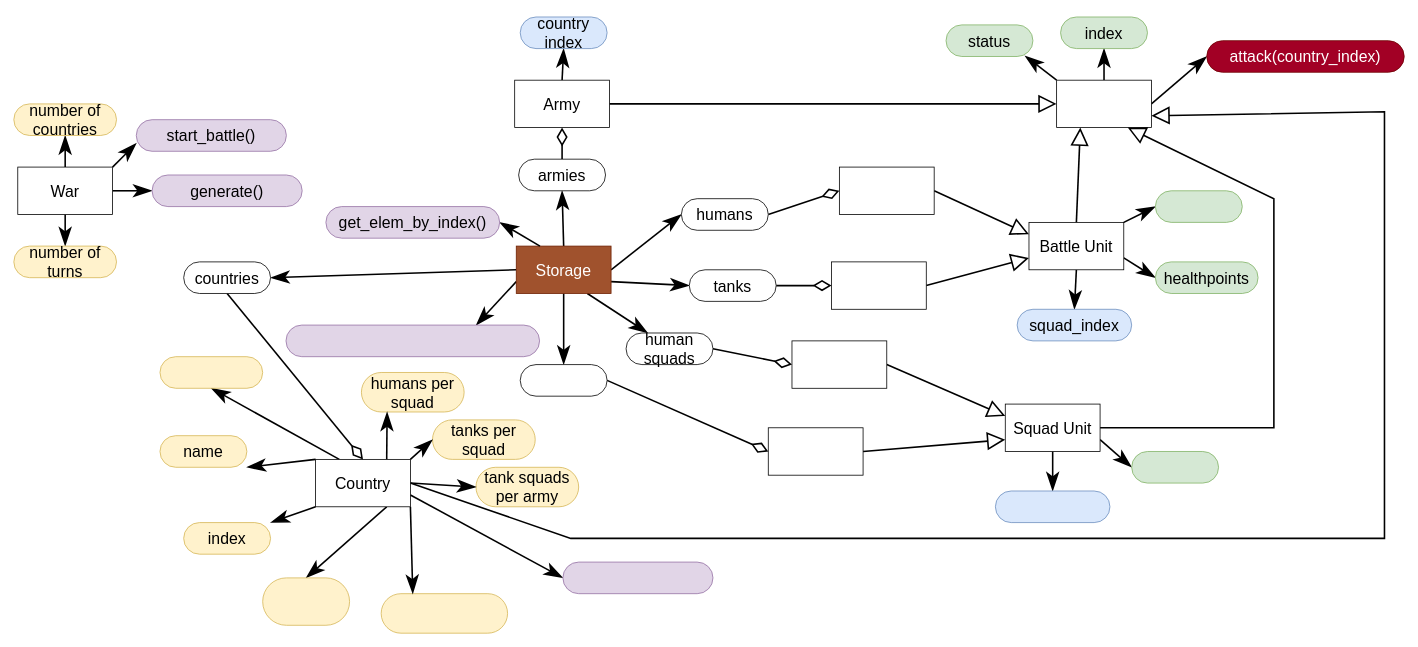
This 1418x647 diagram has some shape labels left out. The centre of each missing label's shape, as x and y in pixels:
"army_index" belongs at (1052,506).
"Base Unit" belongs at (1103,103).
"damage" belongs at (1198,206).
"generate_units()" belongs at (637,577).
"get_humans_by_squad_index()" belongs at (412,340).
"Human" belongs at (886,190).
"human count" belongs at (306,601).
"Human Squad" belongs at (839,364).
"human squads per army" belongs at (444,613).
"Tank" belongs at (878,285).
"tanks count" belongs at (211,372).
"Tanks Squad" belongs at (815,451).
"tanks squads" belongs at (563,380).
"unit type" belongs at (1175,467).
